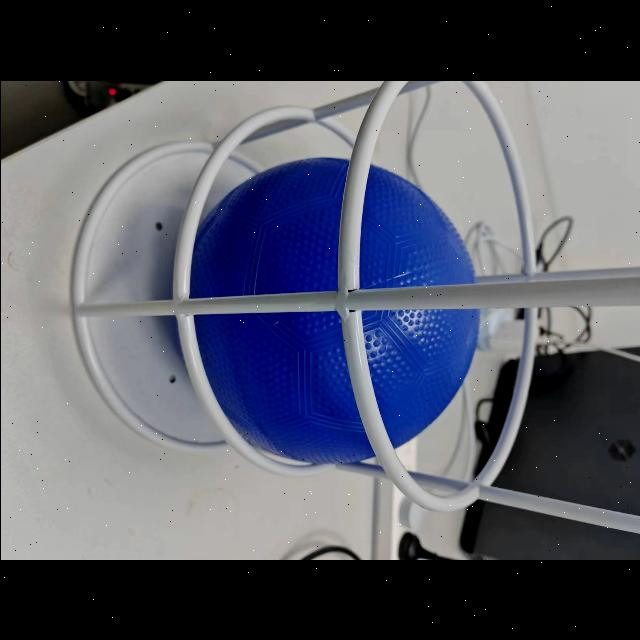B: (170, 154, 484, 468)
S: (68, 80, 640, 542)
